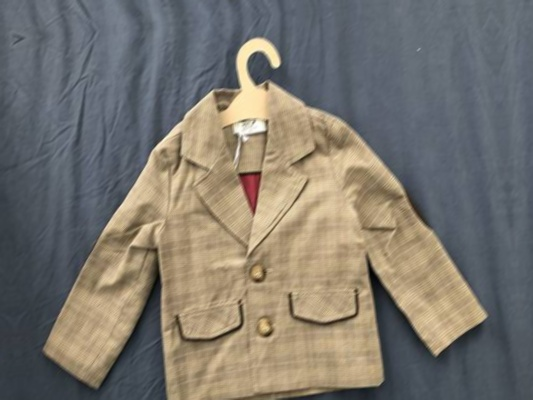Blazer: (46, 42, 492, 400), (529, 0, 533, 384)
